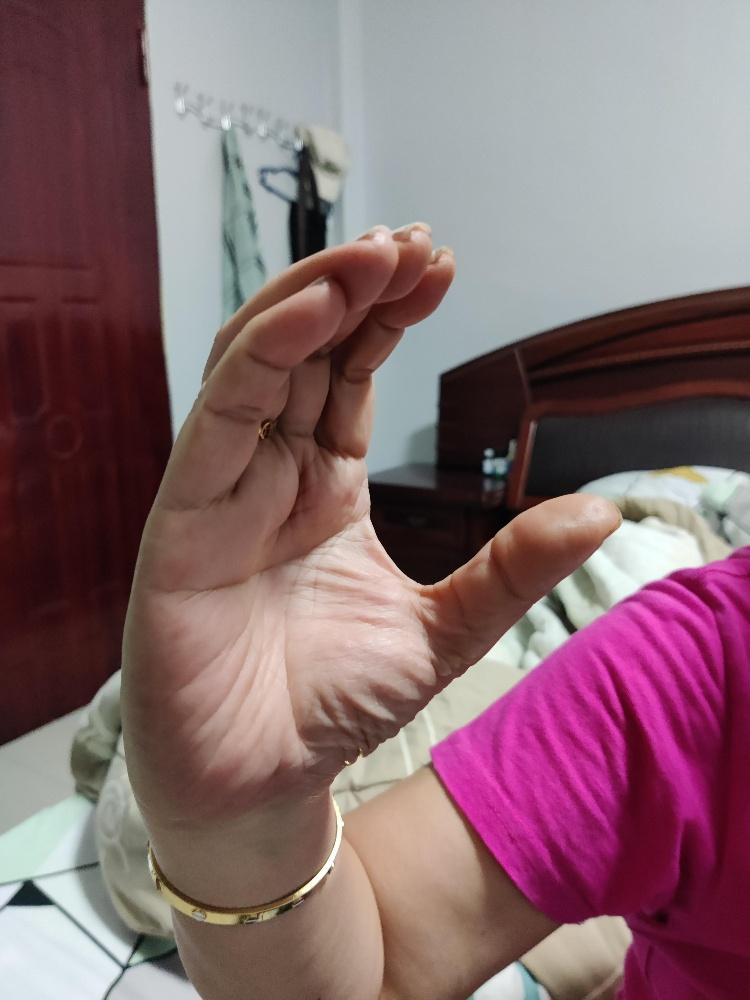c: (115, 218, 625, 816)
